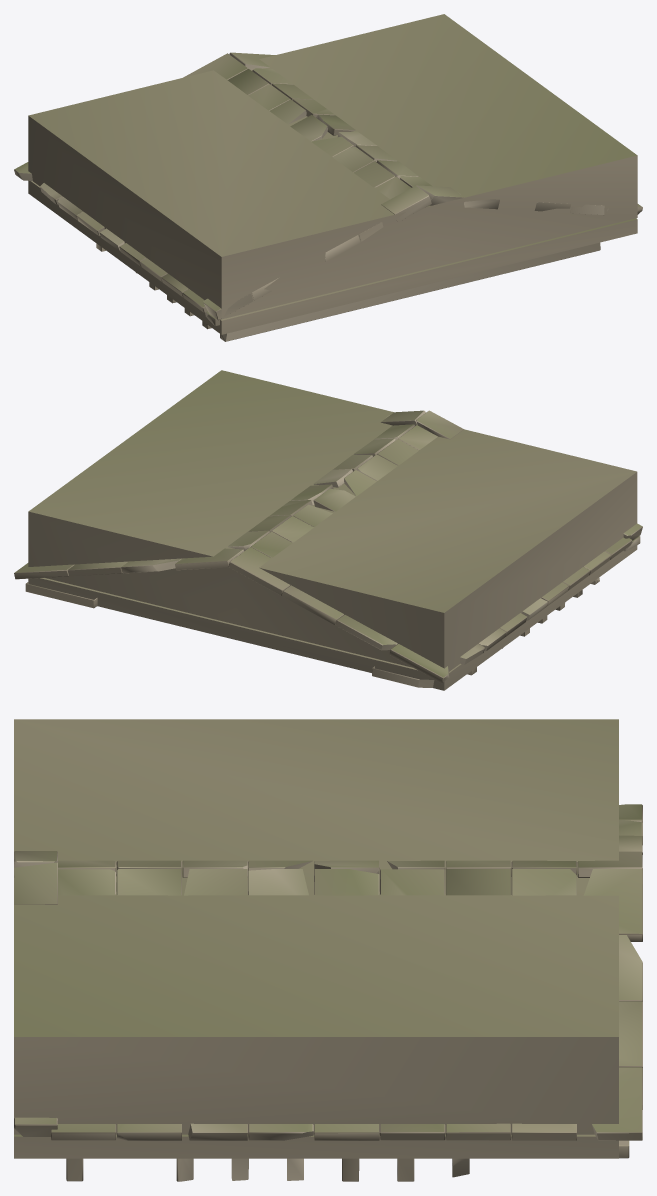
Rendered from dome_porch_roof.glb.
3 renders of one model, top to bottom at view 1: azimuth 30°, elevation 25°; view 2: azimuth 150°, elevation 25°; view 3: azimuth 270°, elevation 25°, orthographic. The views are drawn at different scales.
Parts seen in each view (by area): view 1: dome_porch_roof_far, dome_porch_roof; view 2: dome_porch_roof_far, dome_porch_roof; view 3: dome_porch_roof_far, dome_porch_roof.
Part boxes in pixels (x1,y1,x2,y2): dome_porch_roof_far: [28, 14, 637, 334]; dome_porch_roof: [14, 52, 642, 341]; dome_porch_roof_far: [28, 370, 637, 690]; dome_porch_roof: [14, 410, 642, 687]; dome_porch_roof_far: [14, 719, 618, 1158]; dome_porch_roof: [14, 804, 642, 1181].
Bounding box in the file's own units: 64.02 × 16.12 × 51.8.
